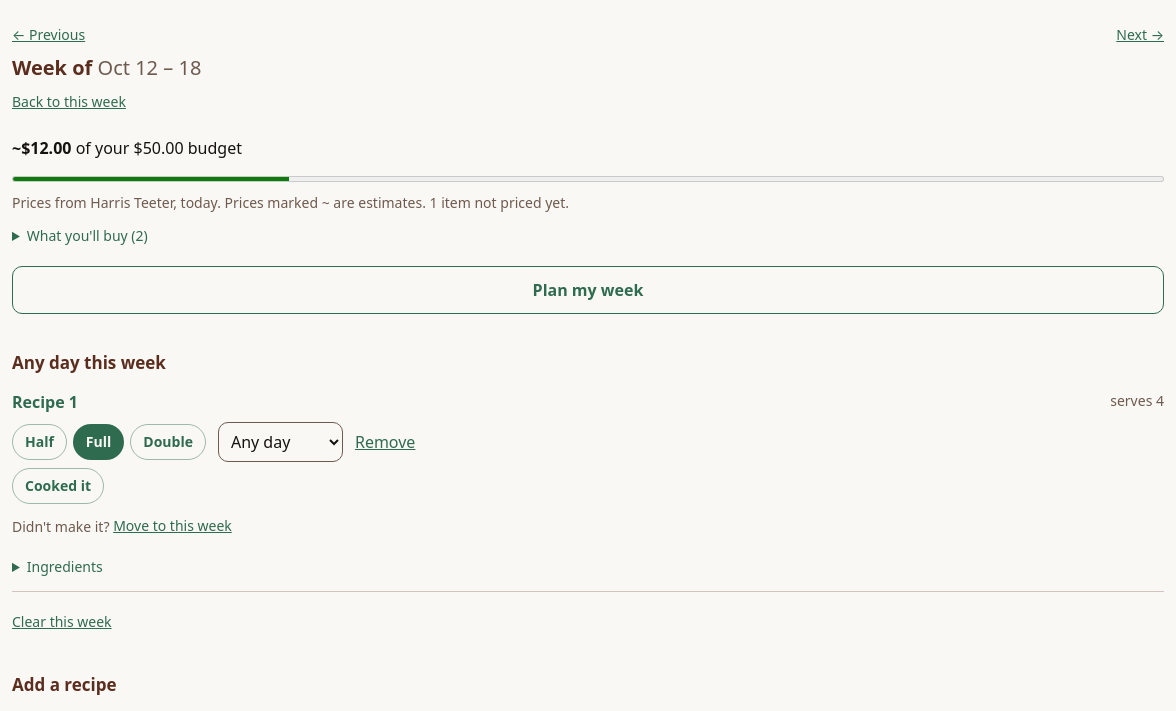
Test: PlanPage › shows live store prices, sales and estimates
Expected: the text "Prices from Harris Teeter, today. Prices marked ~" is shown, [12,193,569,212]
Click the heading "What you'll buy (2)".
click(87, 236)  # box [27,226,148,245]
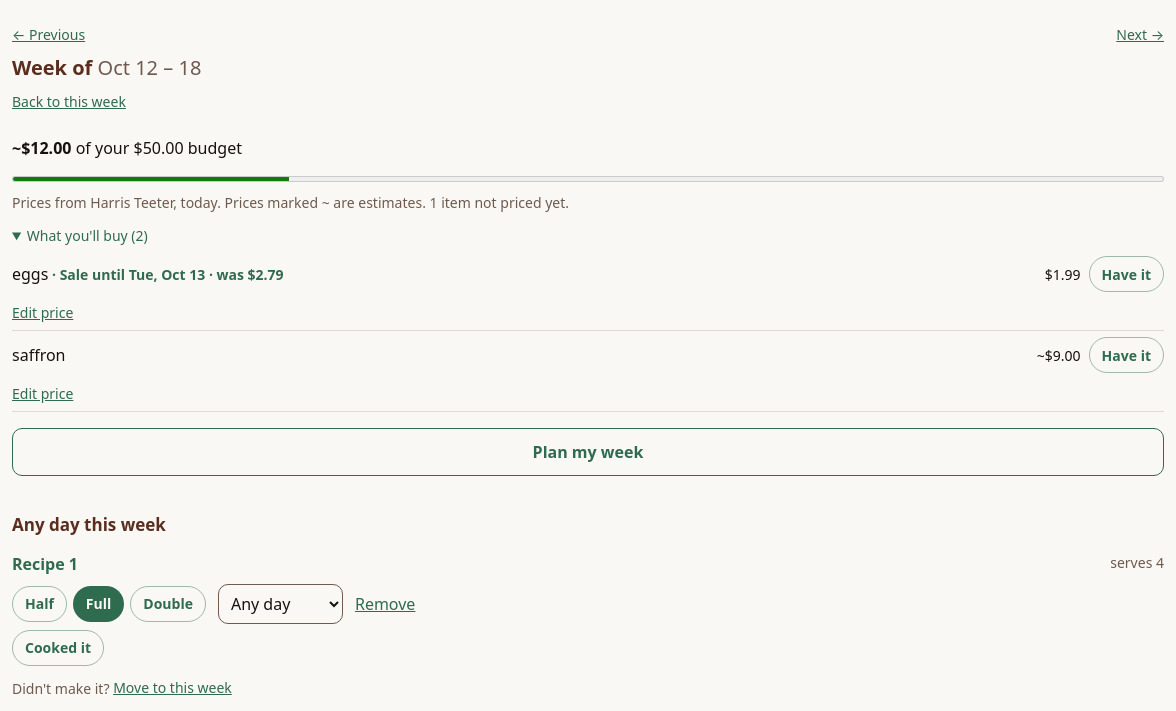
Now the text "· Sale until Tue, Oct 13 · was $2.79" is shown, box [48,265,284,284]
Now the text "~$9.00" is shown, box [1037,344,1081,366]
